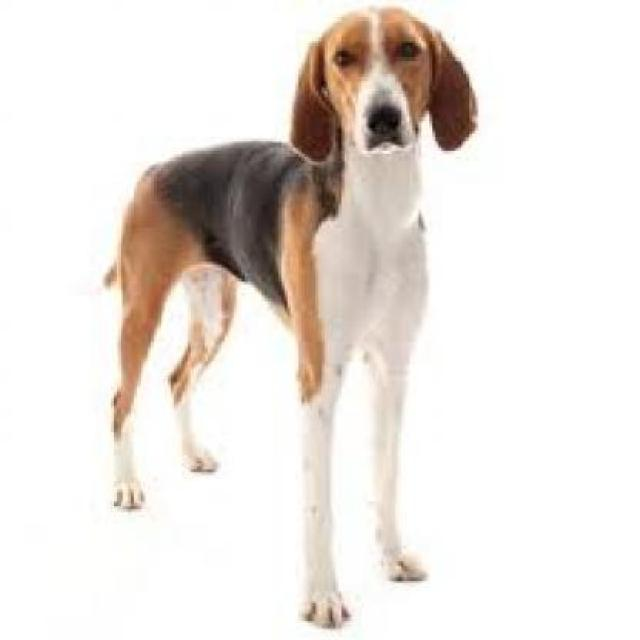animals: (78, 4, 519, 640)
